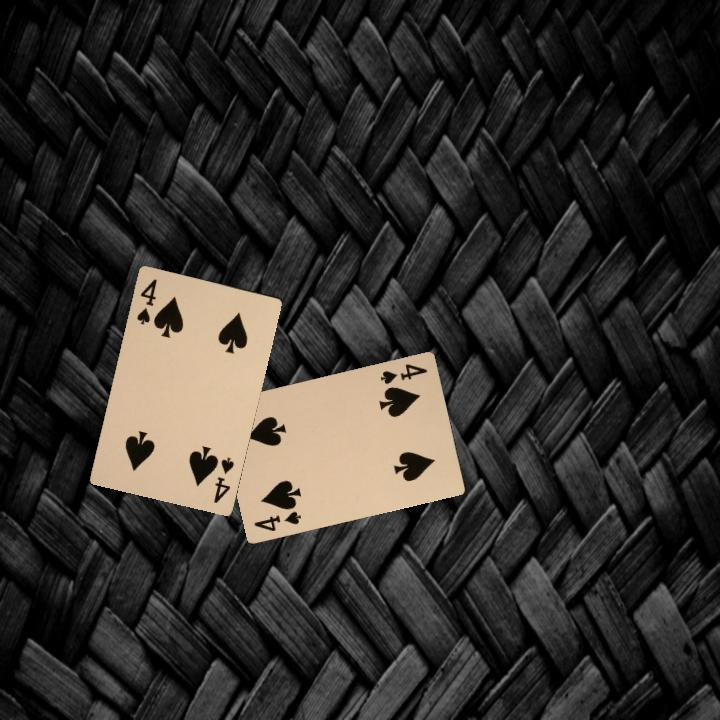4s: (376, 360, 430, 387), (250, 507, 304, 534), (210, 453, 237, 506), (133, 275, 160, 327)
